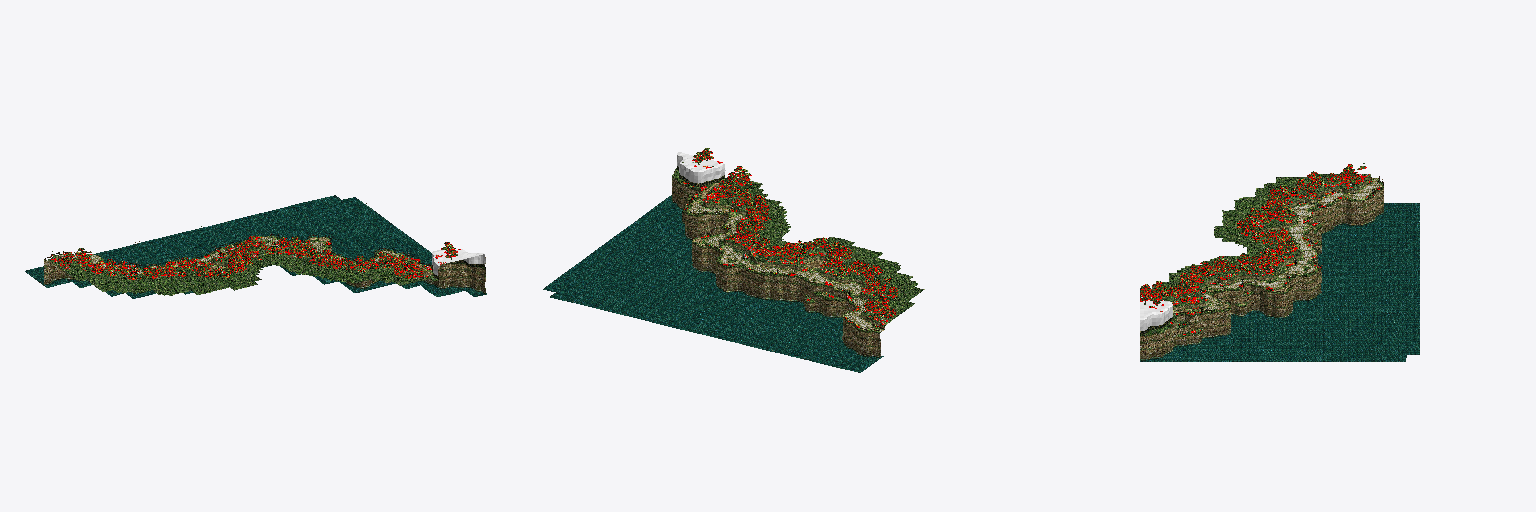
3 renders of one model, left to right at view 1: azimuth 30°, elevation 25°; view 2: azimuth 150°, elevation 25°; view 3: azimuth 270°, elevation 25°, orthographic.
Parts seen in each view (by area): view 1: Object.011; view 2: Object.011; view 3: Object.011.
Boxes of the visible parts, x1=… form: Object.011: x1=25, y1=195, x2=486, y2=298; Object.011: x1=543, y1=148, x2=924, y2=372; Object.011: x1=1140, y1=163, x2=1419, y2=361.
Size of the model in its own units: 182 by 29.22 by 135.
19 materials, 14 textured.